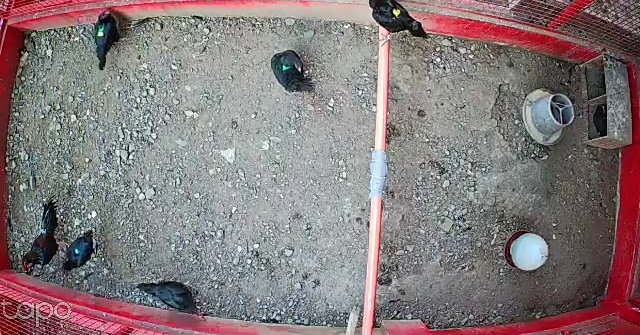Chicken: (355, 0, 434, 47), (133, 280, 209, 324), (95, 10, 126, 74), (271, 46, 310, 94), (60, 229, 99, 275)
Rooster: (20, 199, 71, 273)
Saddle_Color_Blue: (75, 249, 80, 255)
Saddle_Color_Yellow: (392, 7, 401, 20)
Saddle_Color_YellowGreen: (98, 25, 108, 37)
